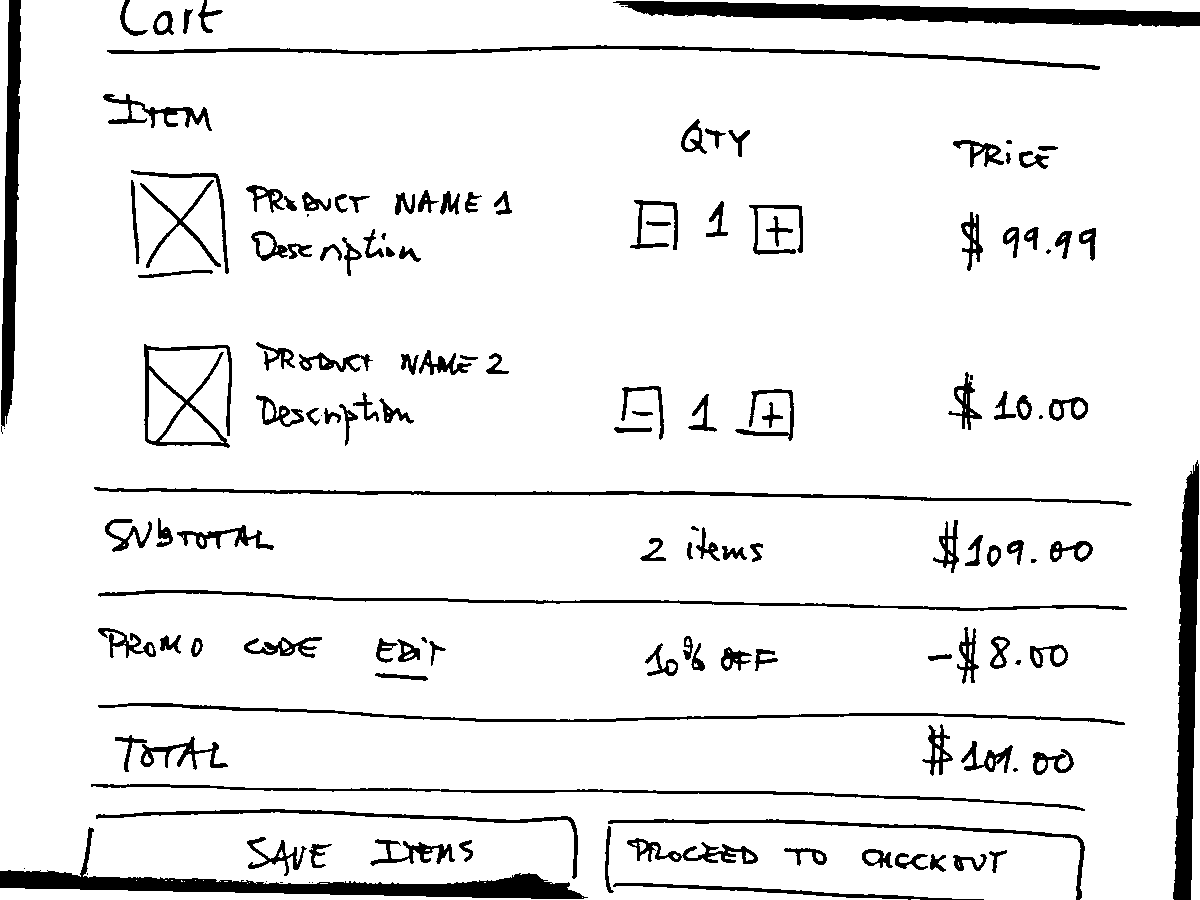Button: (599, 812, 1091, 897), (80, 807, 583, 889)
Image: (126, 164, 233, 281), (139, 338, 236, 450)
